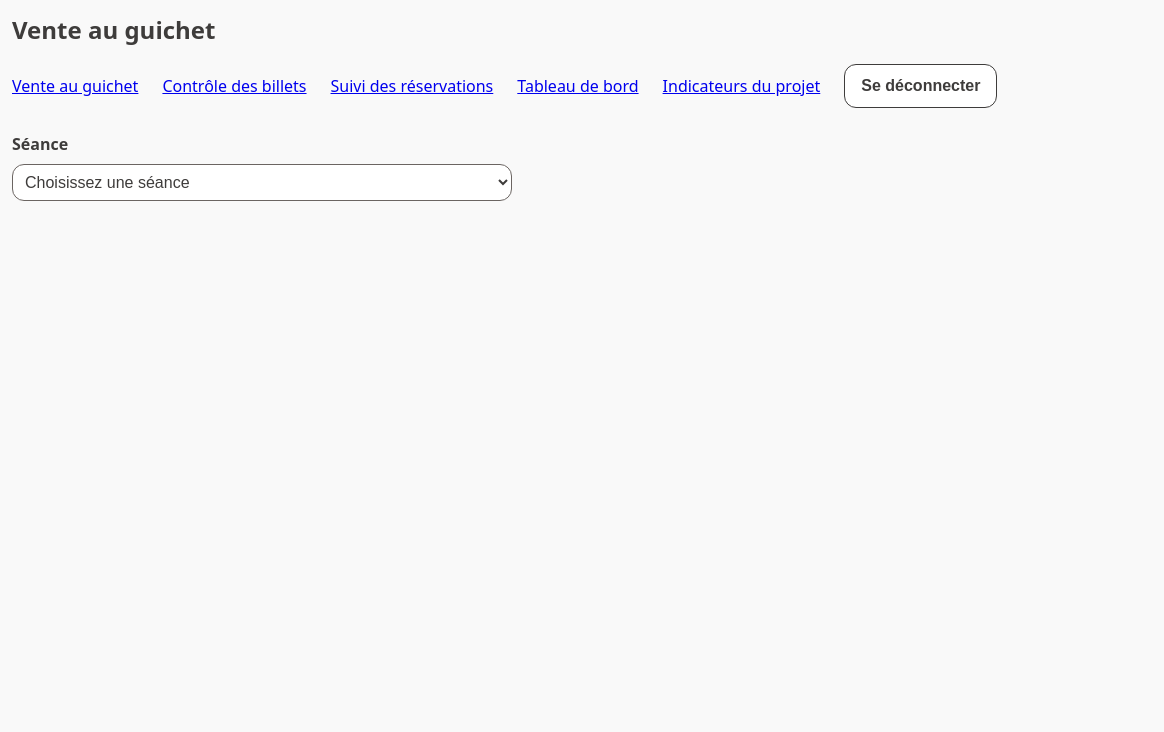
BoxOfficePage (US 7.2) › remplace le bouton Encaisser par la vente enregistrée, puis la masque à la vente suivante
Select "ven. 9 oct. 20:30 · Le jazz à Mende · Salle 1 - IMAX" in the dropdown labelled "Séance" at (262, 182), box [12,164,512,201]
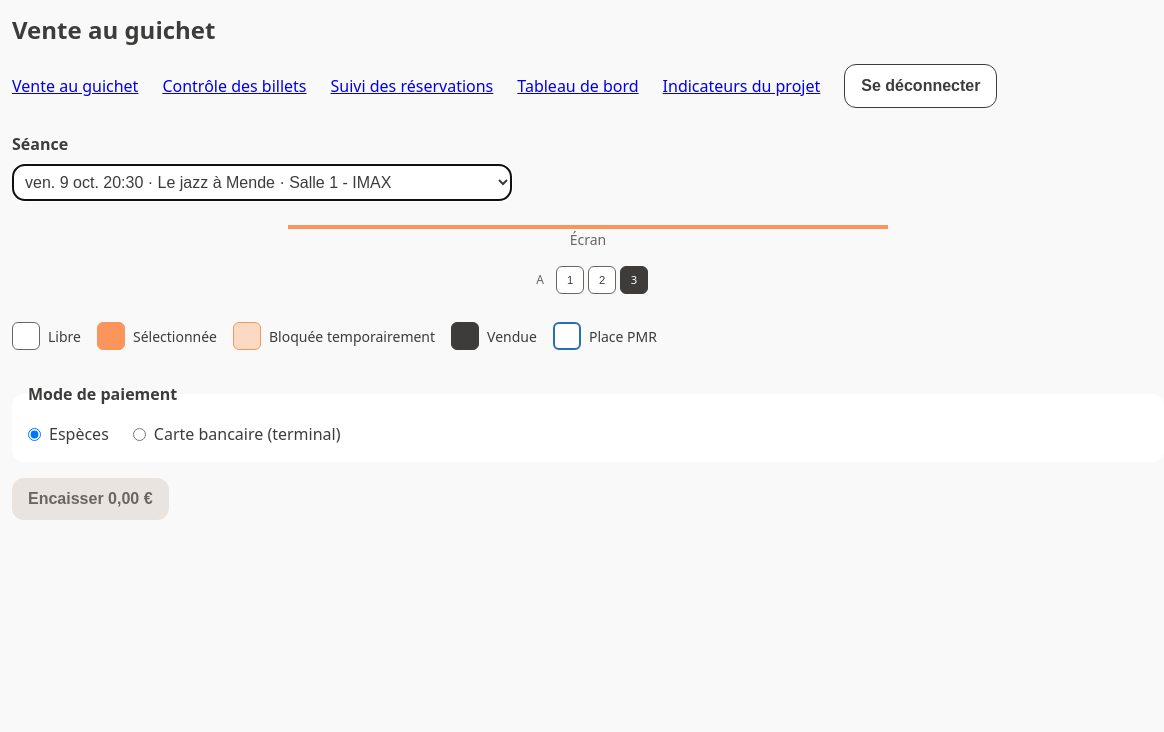
Click the button named "A1 libre".
click(570, 280)  # box [556,266,584,294]
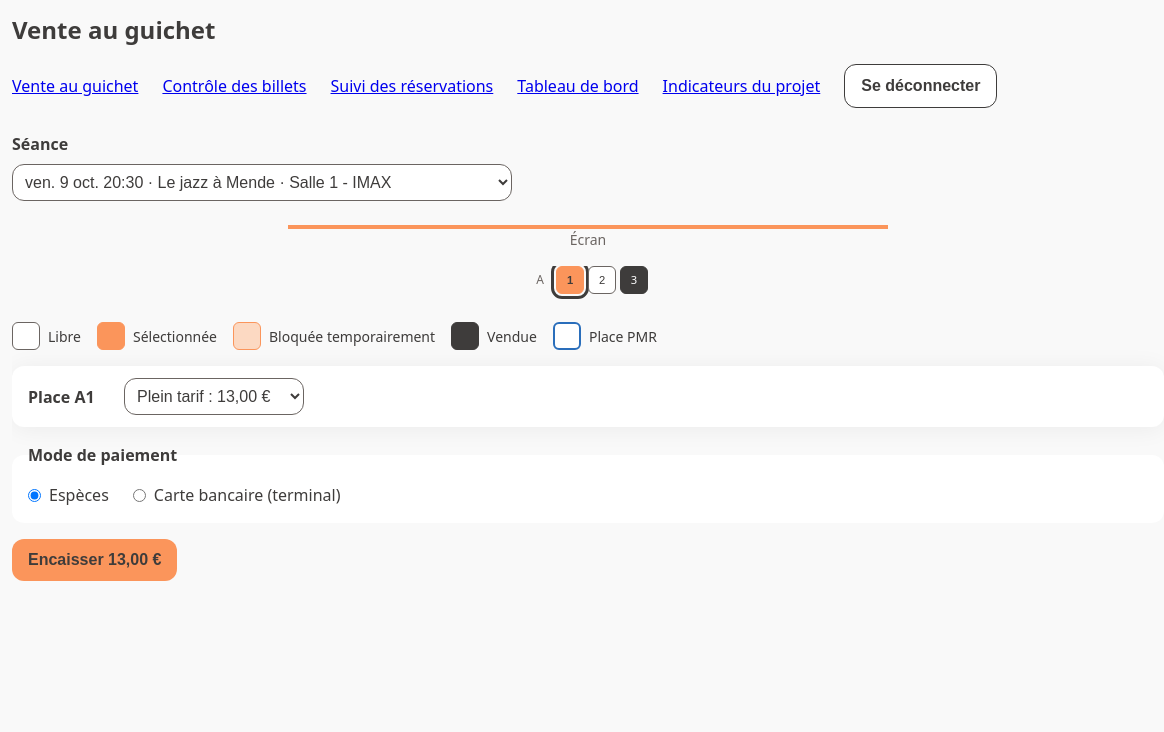
Click the button named "A2 libre".
click(602, 280)  # box [588,266,616,294]
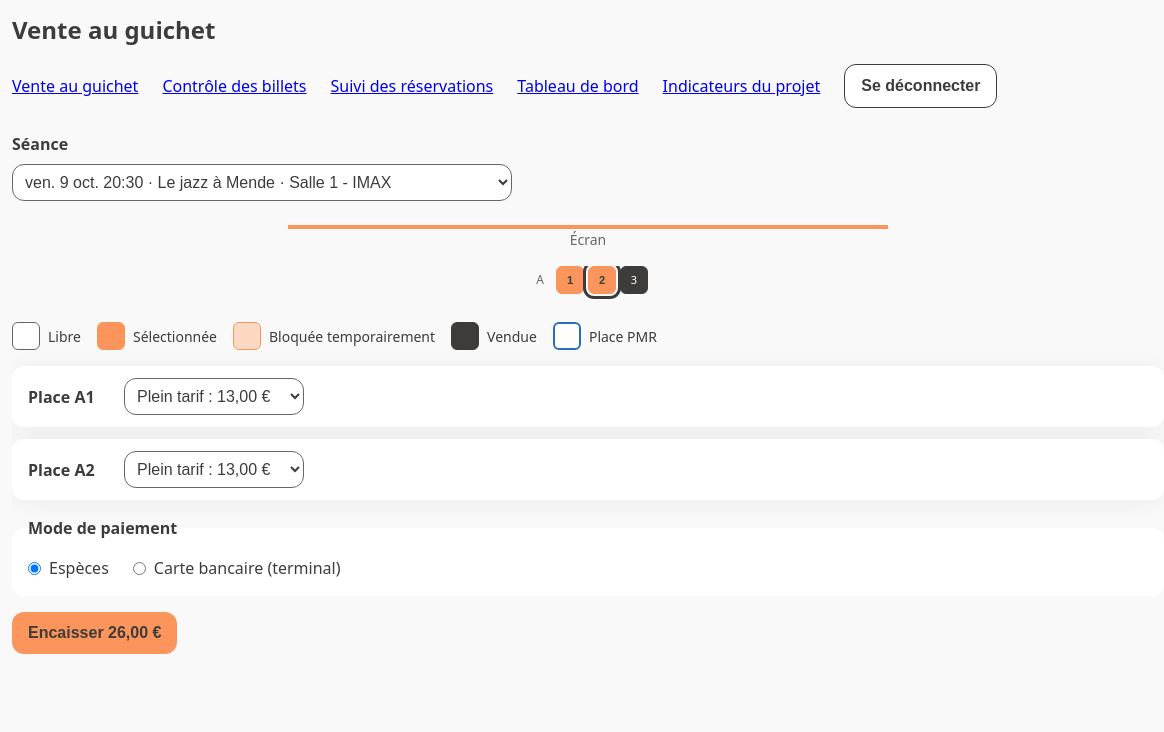
Click the button "Encaisser 26,00 €".
click(95, 633)  # box [12,612,177,654]
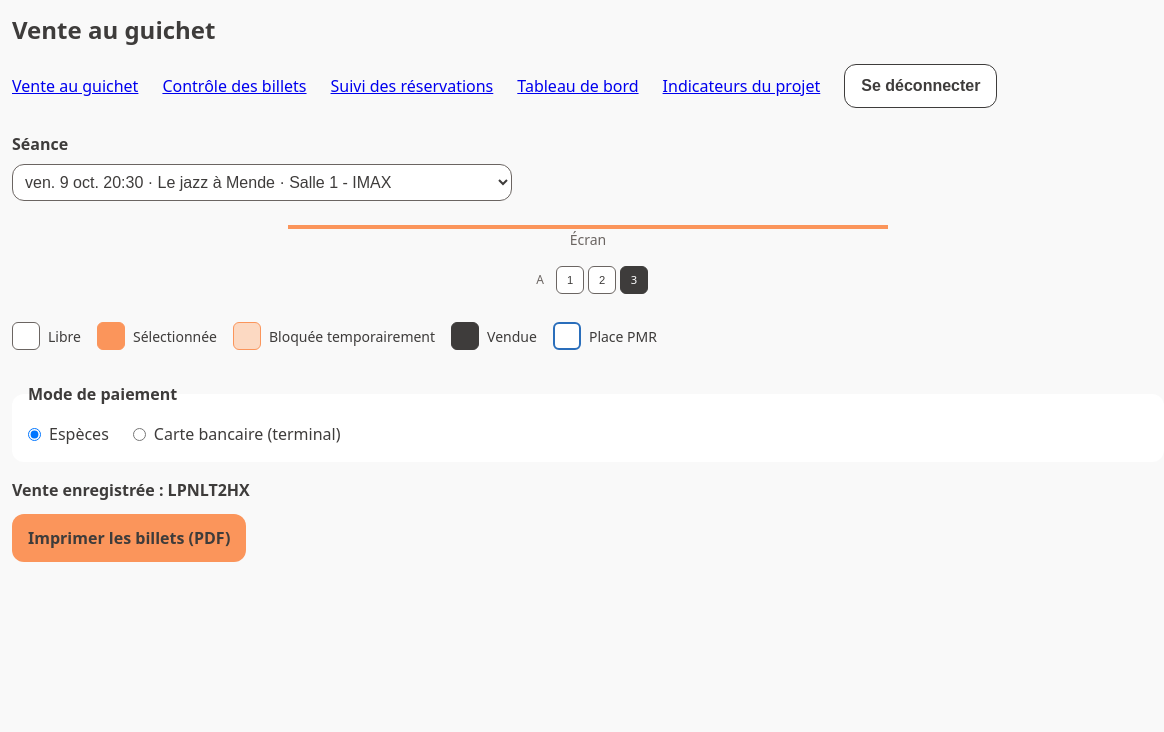
Result: the text "Vente enregistrée : LPNLT2HX" is shown at [12,478,250,502]
Result: the button "Encaisser" is gone
Click the button named "A1 libre".
click(570, 280)  # box [556,266,584,294]
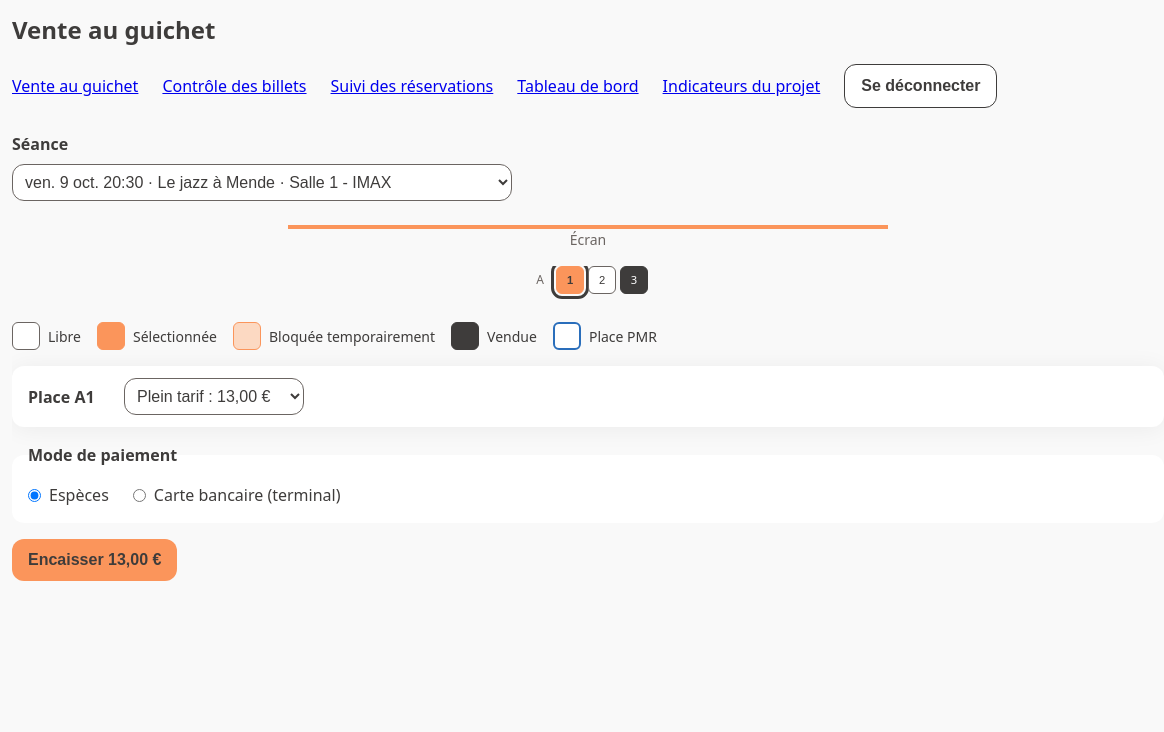
Result: the text "Vente enregistrée : LPNLT2HX" is gone
Result: the button "Encaisser 13,00 €" is shown at [12,539,177,581]
